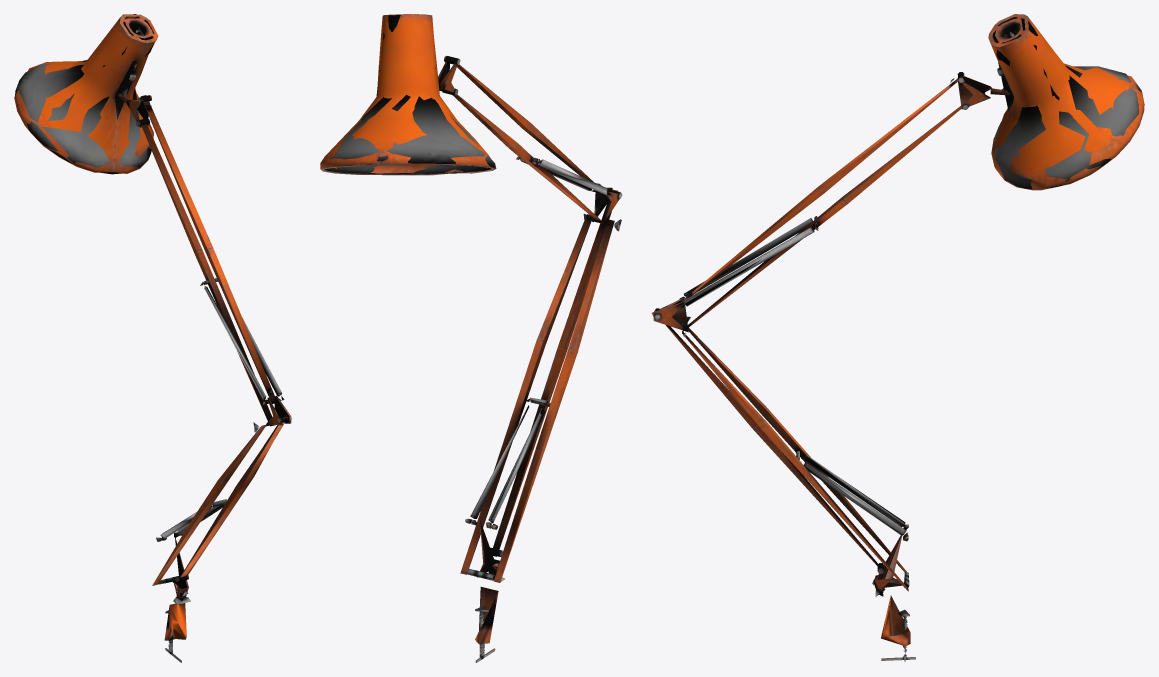
File: desk_lamp_arm_01.glb
The picture shows the model from 3 angles, left to right: view 1: azimuth 30°, elevation 25°; view 2: azimuth 150°, elevation 25°; view 3: azimuth 270°, elevation 25°; orthographic projection. The views are drawn at different scales.
Visible parts, largest first — view 1: desk_lamp_arm_01; view 2: desk_lamp_arm_01; view 3: desk_lamp_arm_01.
Part boxes in pixels (x1=…): desk_lamp_arm_01: x1=14, y1=14, x2=291, y2=662; desk_lamp_arm_01: x1=320, y1=14, x2=622, y2=662; desk_lamp_arm_01: x1=651, y1=14, x2=1144, y2=661.
Size of the model in its own units: 0.2017 by 0.8926 by 0.6134.
2 materials, 2 textured.
